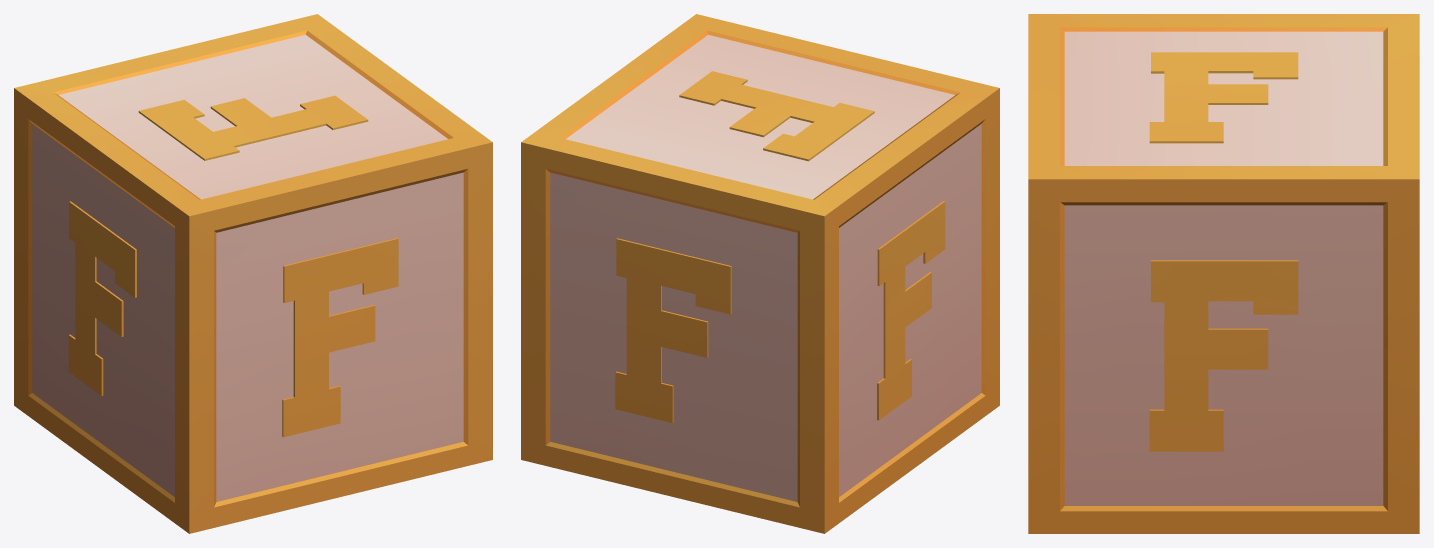
File: Doll_OB_Blocks_006.FBX
3 renders of one model, left to right at view 1: azimuth 30°, elevation 25°; view 2: azimuth 150°, elevation 25°; view 3: azimuth 270°, elevation 25°, orthographic. The views are drawn at different scales.
Parts seen in each view (by area): view 1: Doll_OB_Blocks_006; view 2: Doll_OB_Blocks_006; view 3: Doll_OB_Blocks_006.
Boxes of the visible parts, x1=… form: Doll_OB_Blocks_006: x1=14, y1=14, x2=492, y2=533; Doll_OB_Blocks_006: x1=521, y1=14, x2=999, y2=533; Doll_OB_Blocks_006: x1=1028, y1=14, x2=1419, y2=533.
Bounding box in the file's own units: 20.66 × 20.66 × 20.66.
